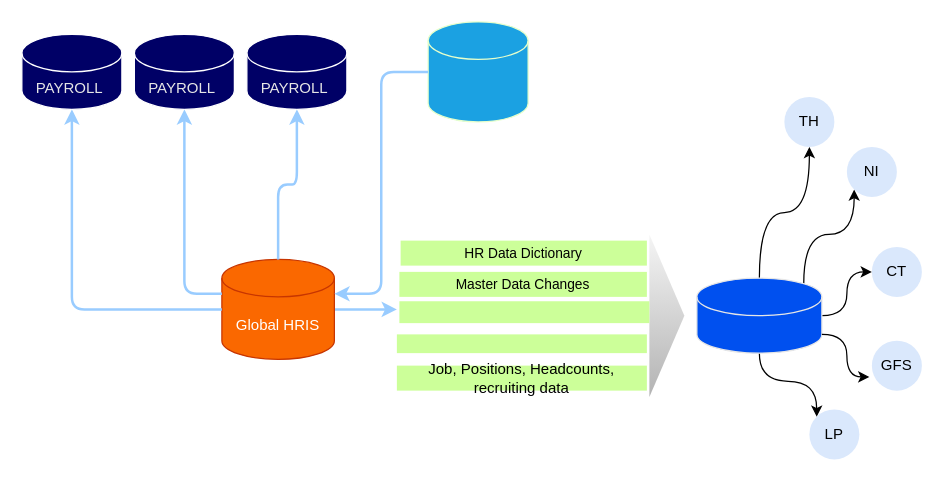
The diagram is 944 pixels wide and 481 high, and some of its shapes have lost their labels. The centre of each missing label's shape, as x and y in pixels:
AZURE AD: point 477,71
BOOMI: point 759,315
Organization Master Data: point 521,343
Worker Master Data: point 524,311
